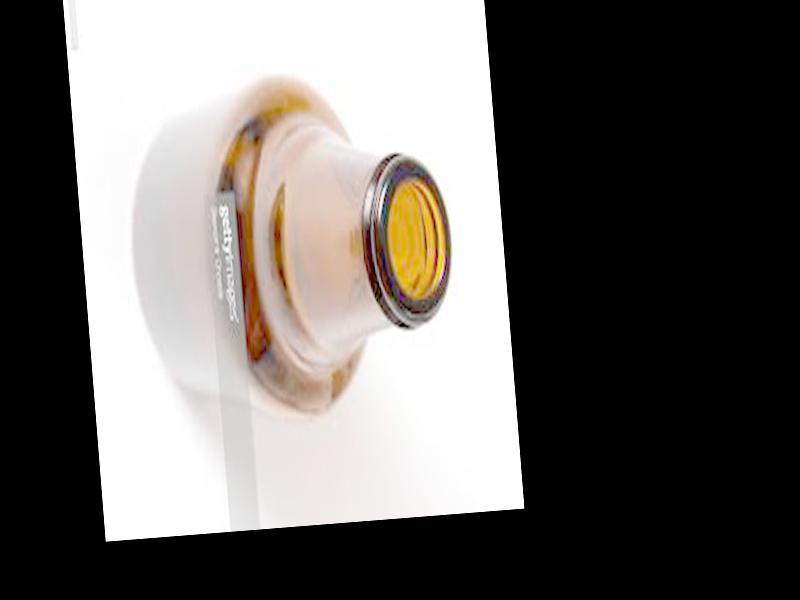Beer: (118, 64, 465, 434)
